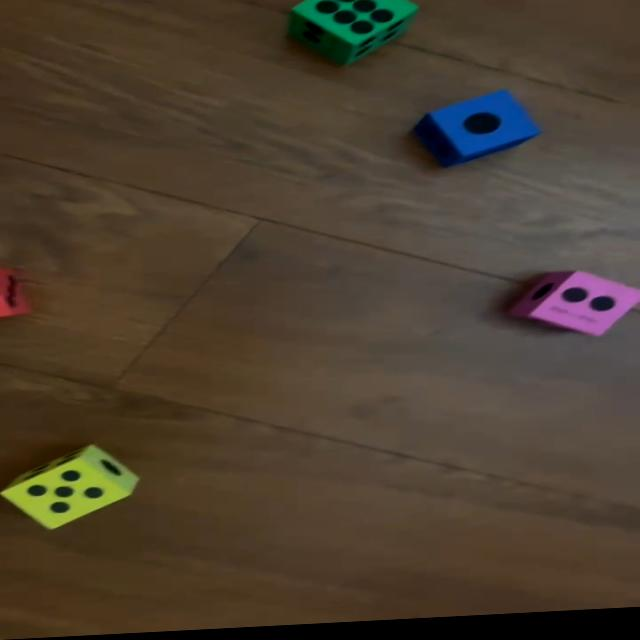cube: (415, 95, 539, 170), (289, 0, 417, 70), (0, 270, 30, 319)
